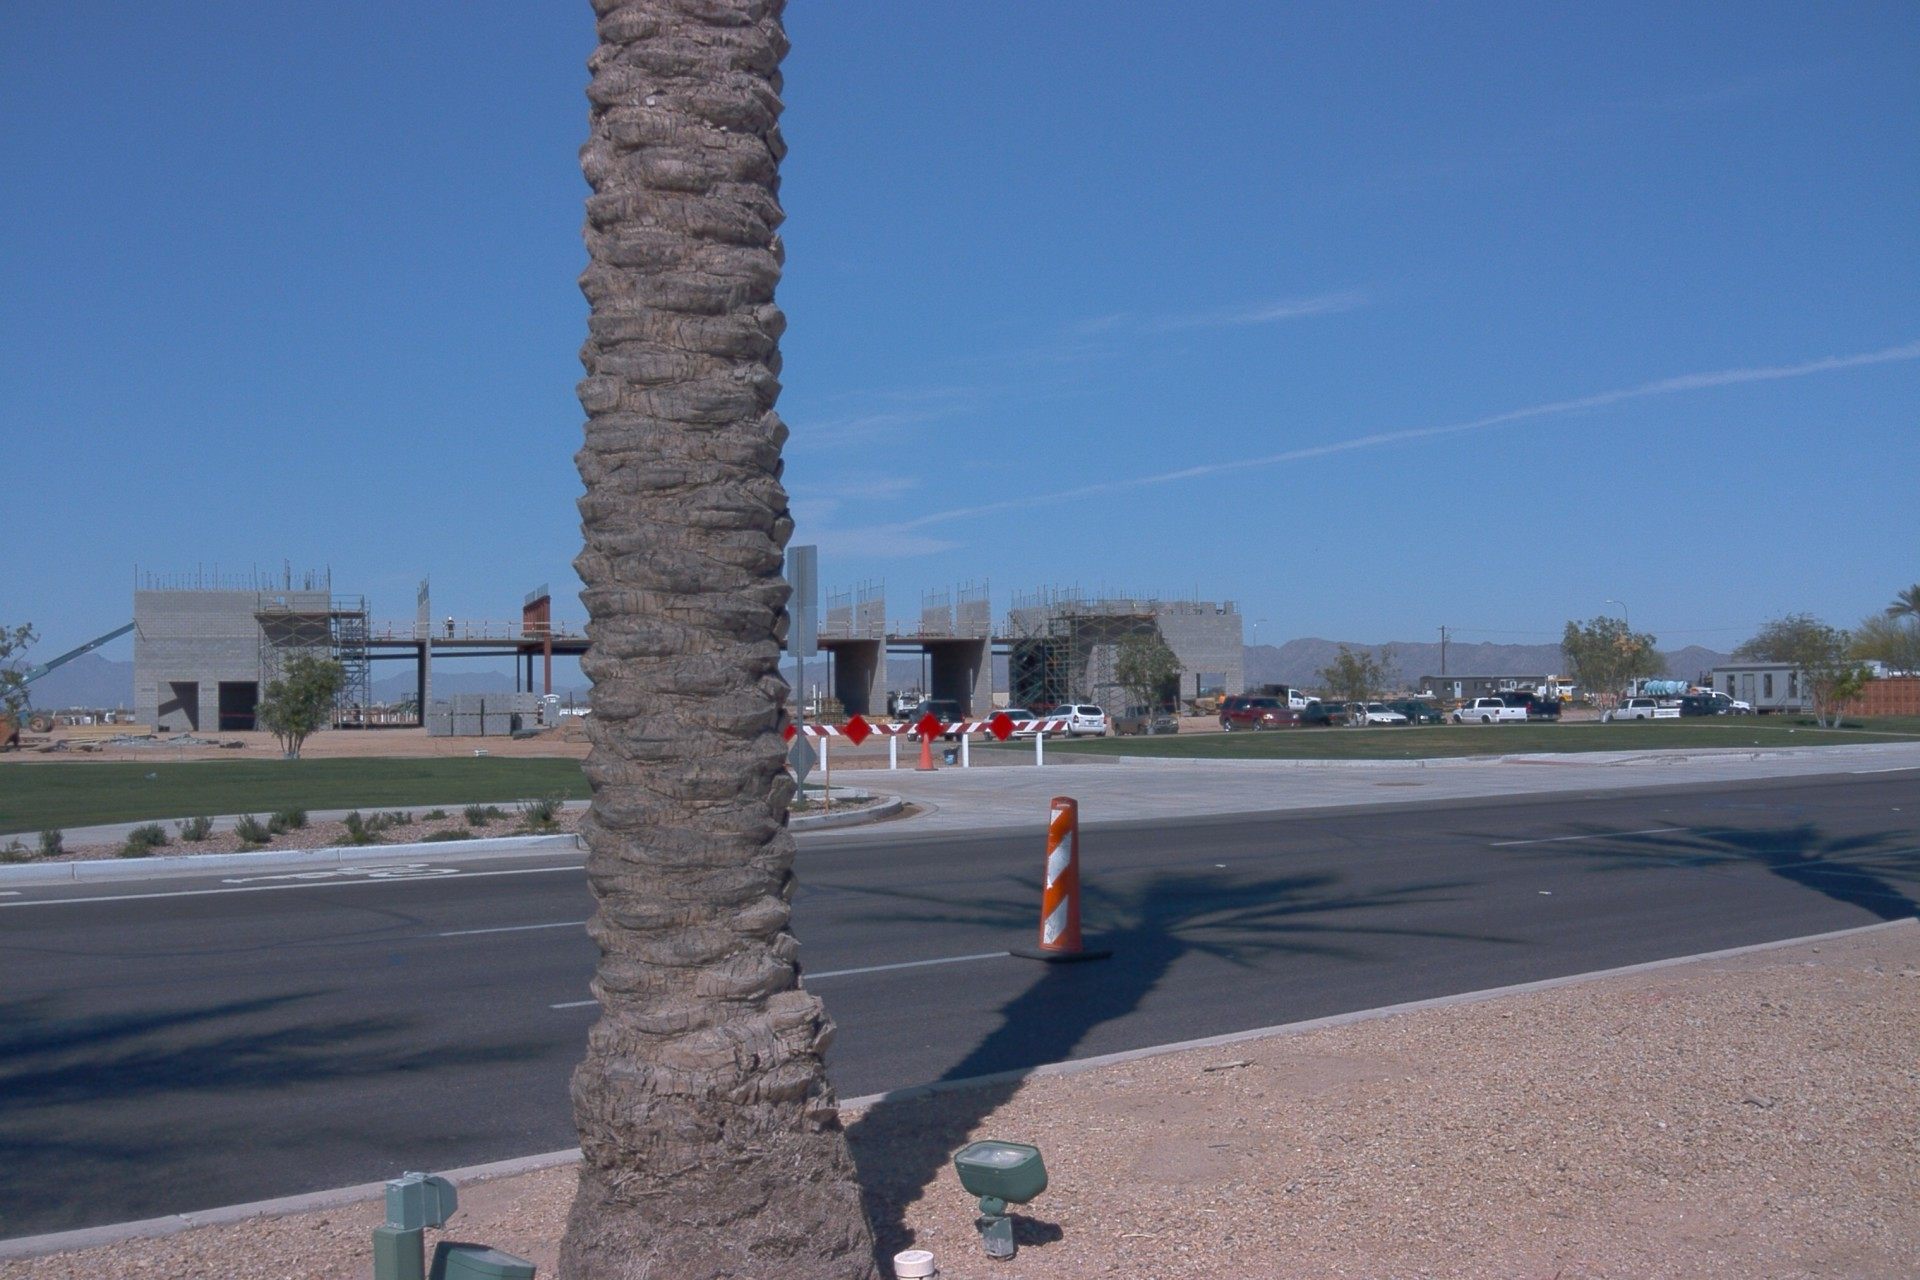TYPE_PEDESTRIAN: (1489, 689, 1497, 697)
TYPE_VEHICLE: (0, 622, 147, 737), (1218, 693, 1301, 735), (1655, 688, 1753, 719), (1108, 703, 1181, 744), (1506, 675, 1590, 709), (1040, 701, 1106, 744), (908, 699, 968, 746), (1450, 694, 1526, 728), (1489, 689, 1564, 723), (1254, 682, 1322, 715), (984, 708, 1050, 742), (1293, 699, 1351, 733), (1657, 695, 1744, 715), (1600, 697, 1678, 718), (1344, 702, 1410, 726), (1622, 680, 1689, 702), (1383, 701, 1445, 724), (885, 690, 927, 722)
